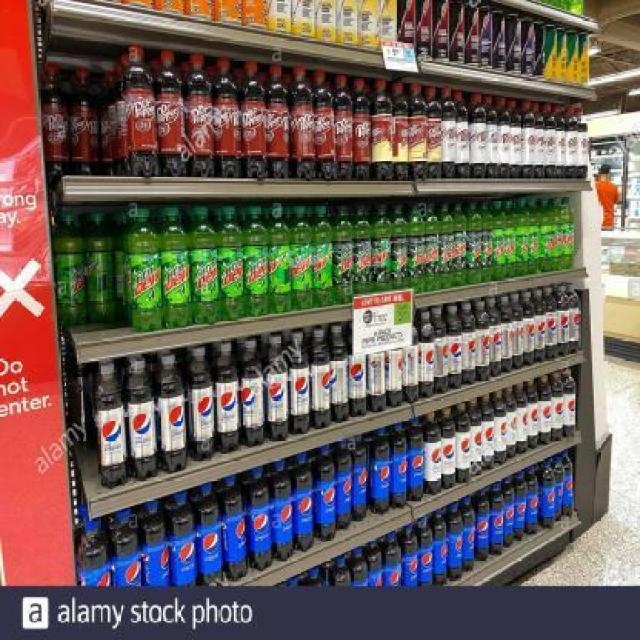Drinks: (122, 43, 159, 179), (94, 360, 131, 488), (125, 208, 161, 334), (128, 358, 160, 482), (39, 61, 70, 187), (156, 50, 187, 176), (160, 205, 192, 327), (186, 54, 217, 178), (158, 353, 189, 475), (189, 205, 220, 327), (53, 211, 85, 327), (86, 211, 118, 327), (213, 59, 242, 177), (240, 62, 269, 179), (69, 69, 100, 178), (217, 207, 246, 321), (289, 65, 317, 181), (189, 348, 217, 460), (220, 476, 248, 580), (243, 206, 269, 317), (312, 72, 338, 181), (267, 65, 291, 181), (216, 342, 240, 453), (240, 340, 264, 449), (268, 206, 292, 315), (265, 334, 289, 442), (142, 499, 171, 588), (111, 508, 143, 588), (172, 490, 198, 586), (199, 483, 223, 586), (249, 468, 273, 571), (270, 459, 294, 562), (290, 205, 313, 311), (292, 450, 315, 553), (289, 330, 311, 434), (313, 445, 336, 543), (372, 79, 394, 181), (312, 206, 334, 308), (309, 328, 331, 430), (329, 325, 351, 423), (333, 75, 353, 179), (352, 79, 372, 179), (369, 427, 391, 516), (409, 84, 429, 180), (392, 81, 410, 183), (335, 205, 353, 307), (349, 321, 367, 418), (335, 440, 353, 531), (354, 204, 372, 295), (373, 203, 391, 294), (407, 203, 425, 294), (367, 322, 385, 413), (452, 90, 470, 179), (426, 87, 443, 179), (468, 93, 486, 179), (385, 322, 403, 408), (440, 87, 457, 178), (445, 305, 463, 389), (419, 310, 436, 398), (391, 422, 408, 510), (391, 203, 408, 291), (431, 307, 448, 393), (408, 418, 425, 502), (424, 411, 441, 495), (439, 201, 455, 290), (465, 202, 482, 285), (354, 435, 370, 523), (403, 315, 419, 403), (460, 303, 477, 385), (452, 201, 468, 287), (491, 200, 508, 280), (441, 407, 457, 490), (482, 96, 498, 179), (466, 398, 483, 476), (475, 300, 491, 382), (495, 98, 511, 180), (455, 403, 471, 483), (485, 298, 501, 376), (498, 295, 514, 373), (426, 203, 440, 292), (492, 389, 508, 466), (520, 291, 536, 367), (541, 103, 557, 179), (479, 201, 493, 283), (539, 459, 555, 530), (555, 286, 571, 357), (507, 99, 521, 179), (522, 99, 536, 179), (418, 517, 434, 586), (449, 502, 463, 580), (503, 199, 517, 277), (516, 198, 530, 276), (402, 522, 419, 586), (510, 293, 524, 370), (481, 393, 495, 470), (434, 509, 448, 586), (462, 496, 476, 573), (532, 103, 546, 180), (526, 198, 540, 275), (539, 198, 553, 274), (550, 198, 564, 272), (561, 197, 575, 271), (490, 482, 504, 556), (476, 488, 490, 562), (552, 105, 566, 179), (565, 105, 579, 179), (532, 290, 546, 362), (543, 287, 557, 359), (383, 531, 401, 587), (574, 106, 588, 178), (515, 470, 529, 541), (566, 283, 580, 354), (539, 375, 553, 446), (562, 368, 576, 439), (550, 372, 564, 441), (561, 449, 575, 517), (526, 467, 540, 535), (504, 386, 516, 458), (515, 382, 527, 454), (553, 454, 565, 522), (505, 476, 516, 547), (528, 379, 539, 450)
